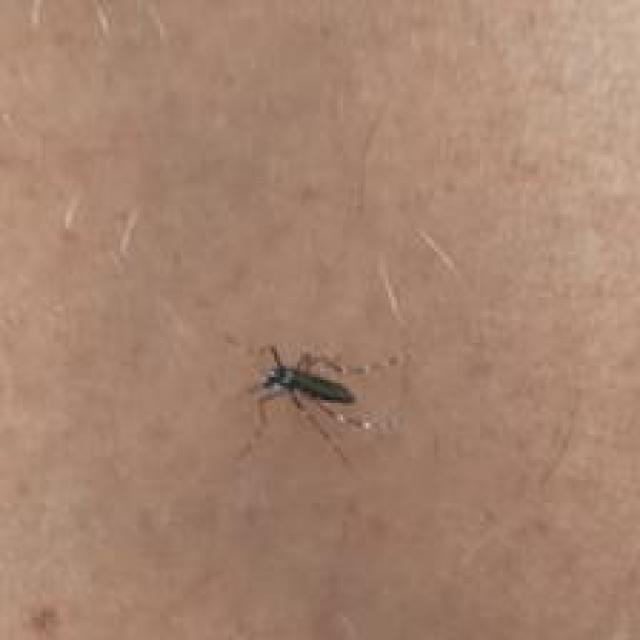Aedes albopictus: (238, 342, 402, 467)
